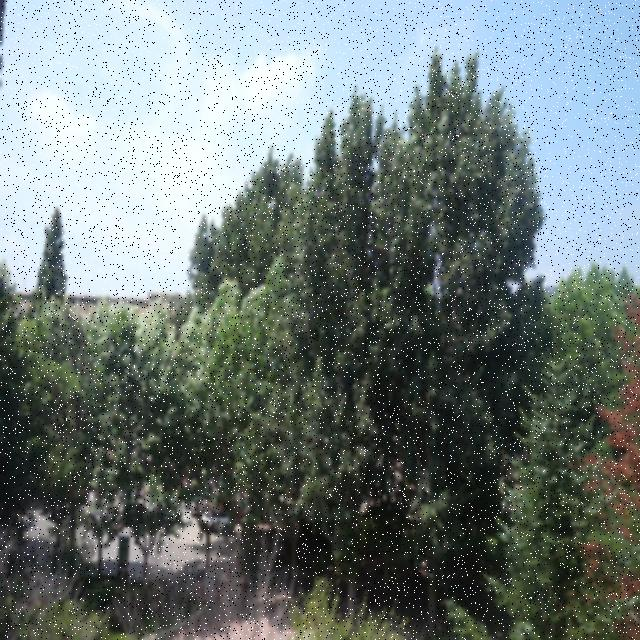UAV: (267, 200, 277, 208)
